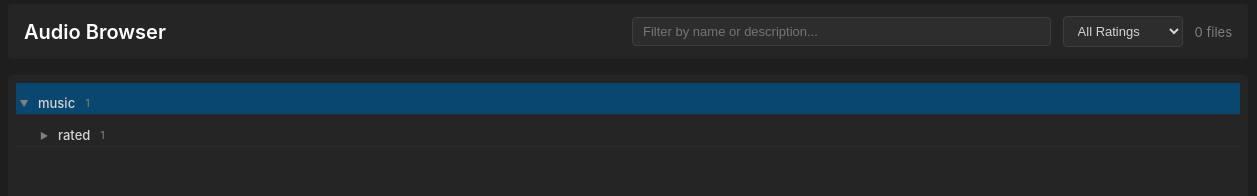
Test case: AudioBrowser › filters by rating from all items including collapsed
Expected: the text "music" is shown, [38,96,75,110]
Expected: the text "rated" is shown, [58,128,90,142]
Note: Filter by rating
Select "3 Stars" in the dropdown named "Rating filter" at [1123, 32], box [1063,16,1183,47]
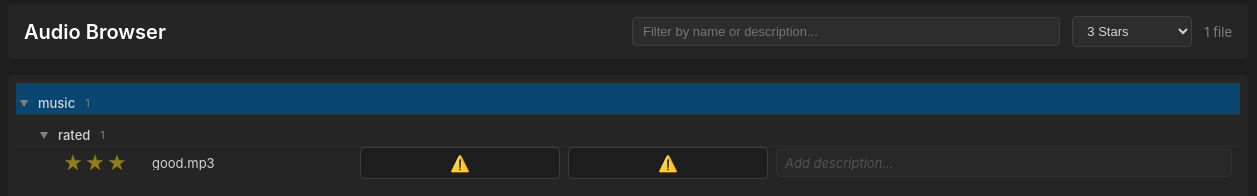
Expected: the text "rated" is shown, [58,128,90,142]
Expected: the text "1 file" is shown, [1204,24,1232,40]
